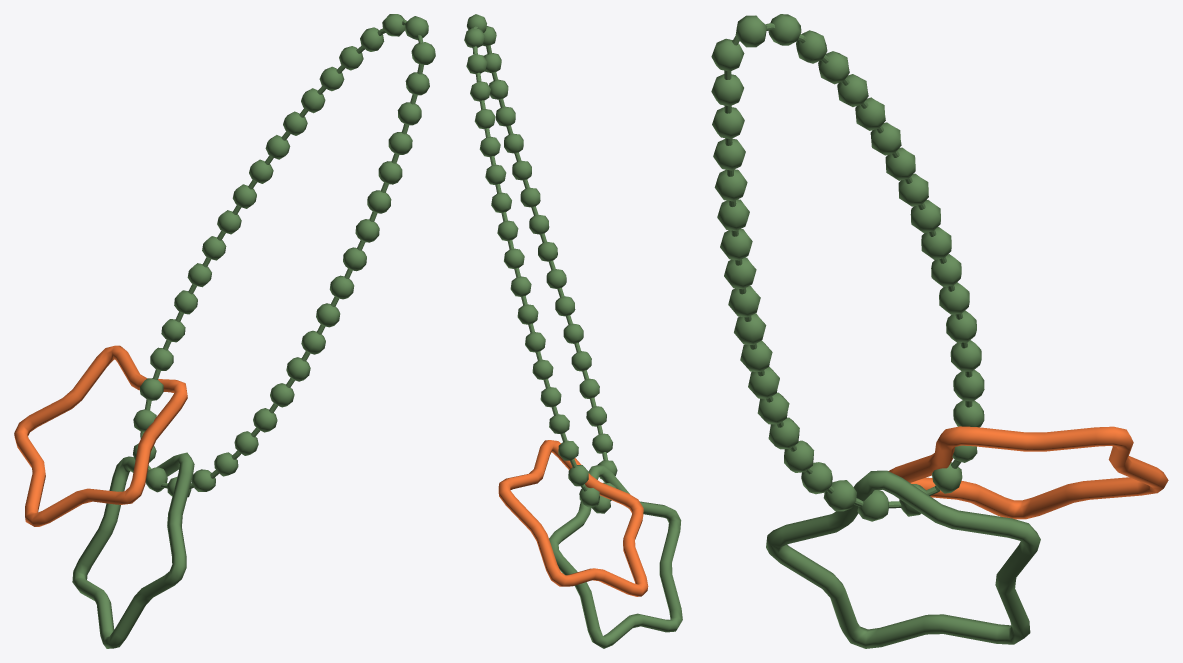
Rendered from keychain_OutlineStarsOnBeadChain.fbx.
3 views of the same model, side by side, from view 1: azimuth 30°, elevation 25°; view 2: azimuth 150°, elevation 25°; view 3: azimuth 270°, elevation 25° (orthographic). The views are drawn at different scales.
Visible parts, largest first — view 1: outline stars on bead chain|chain_bead|Dupli|3, outline stars on bead chain|chain_outline star thin.001|Dupl, outline stars on bead chain|chain_outline star thin|Dupli|1, outline stars on bead chain|curve|Dupli|; view 2: outline stars on bead chain|chain_bead|Dupli|3, outline stars on bead chain|chain_outline star thin.001|Dupl, outline stars on bead chain|chain_outline star thin|Dupli|1, outline stars on bead chain|curve|Dupli|; view 3: outline stars on bead chain|chain_bead|Dupli|3, outline stars on bead chain|chain_outline star thin|Dupli|1, outline stars on bead chain|chain_outline star thin.001|Dupl, outline stars on bead chain|curve|Dupli|.
Part boxes in pixels (x1,y1,x2,y2): outline stars on bead chain|chain_bead|Dupli|3: (133,14,435,497); outline stars on bead chain|chain_outline star thin.001|Dupl: (14,345,187,526); outline stars on bead chain|chain_outline star thin|Dupli|1: (72,452,194,648); outline stars on bead chain|curve|Dupli|: (140,20,423,489); outline stars on bead chain|chain_bead|Dupli|3: (464,14,617,513); outline stars on bead chain|chain_outline star thin.001|Dupl: (498,440,648,596); outline stars on bead chain|chain_outline star thin|Dupli|1: (549,464,682,648); outline stars on bead chain|curve|Dupli|: (472,26,607,505); outline stars on bead chain|chain_bead|Dupli|3: (711,14,984,521); outline stars on bead chain|chain_outline star thin|Dupli|1: (766,470,1040,648); outline stars on bead chain|chain_outline star thin.001|Dupl: (888,426,1168,519); outline stars on bead chain|curve|Dupli|: (724,23,972,508).
Size of the model in its own units: 28.71 by 54.63 by 28.2.
